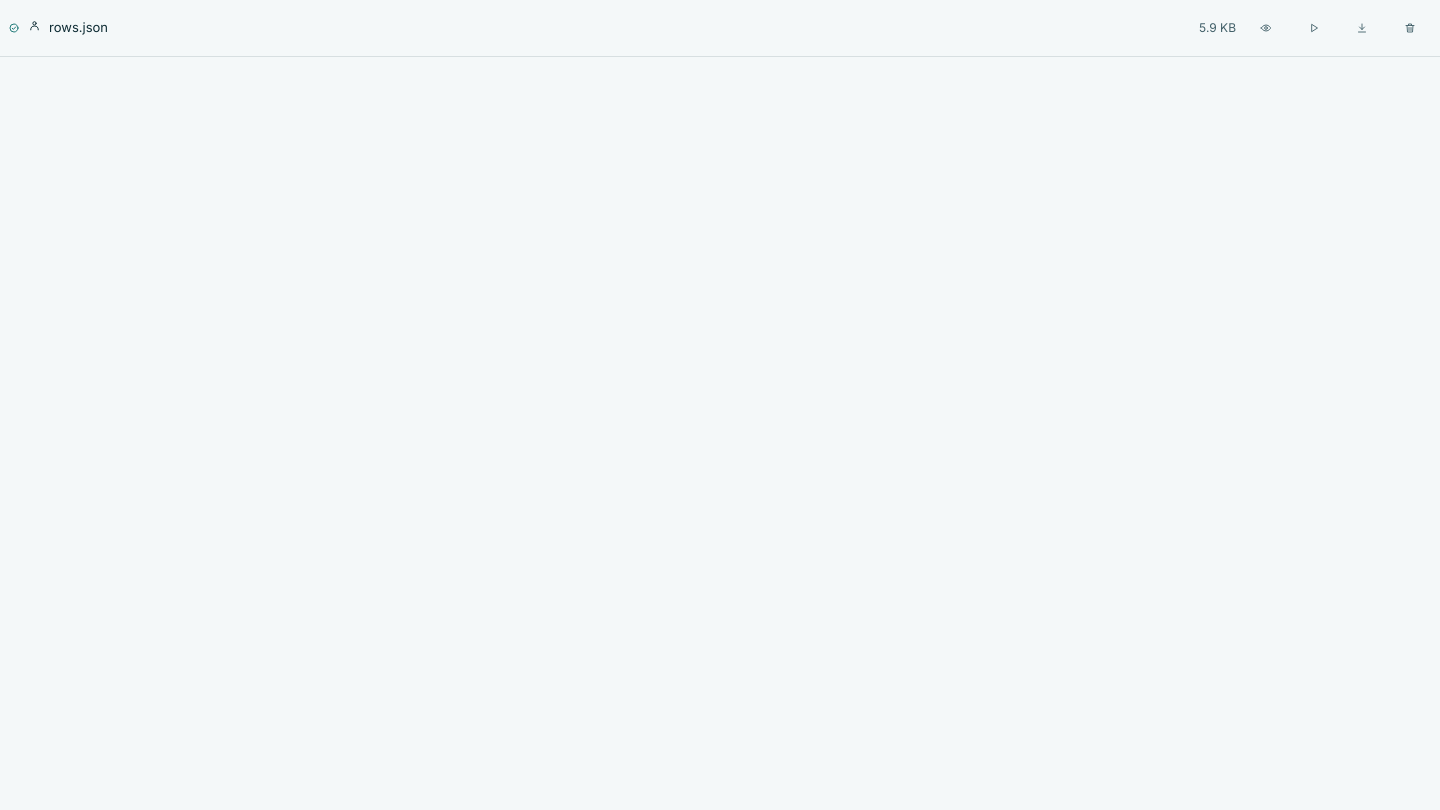
it: BlobRow structural self-disclosure (T-3) › shows row count and keys for a JSON array of records
The image size is (1440, 810).
Click the button named "preview rows.json" at (1266, 28), box 1244,6 -> 1288,50
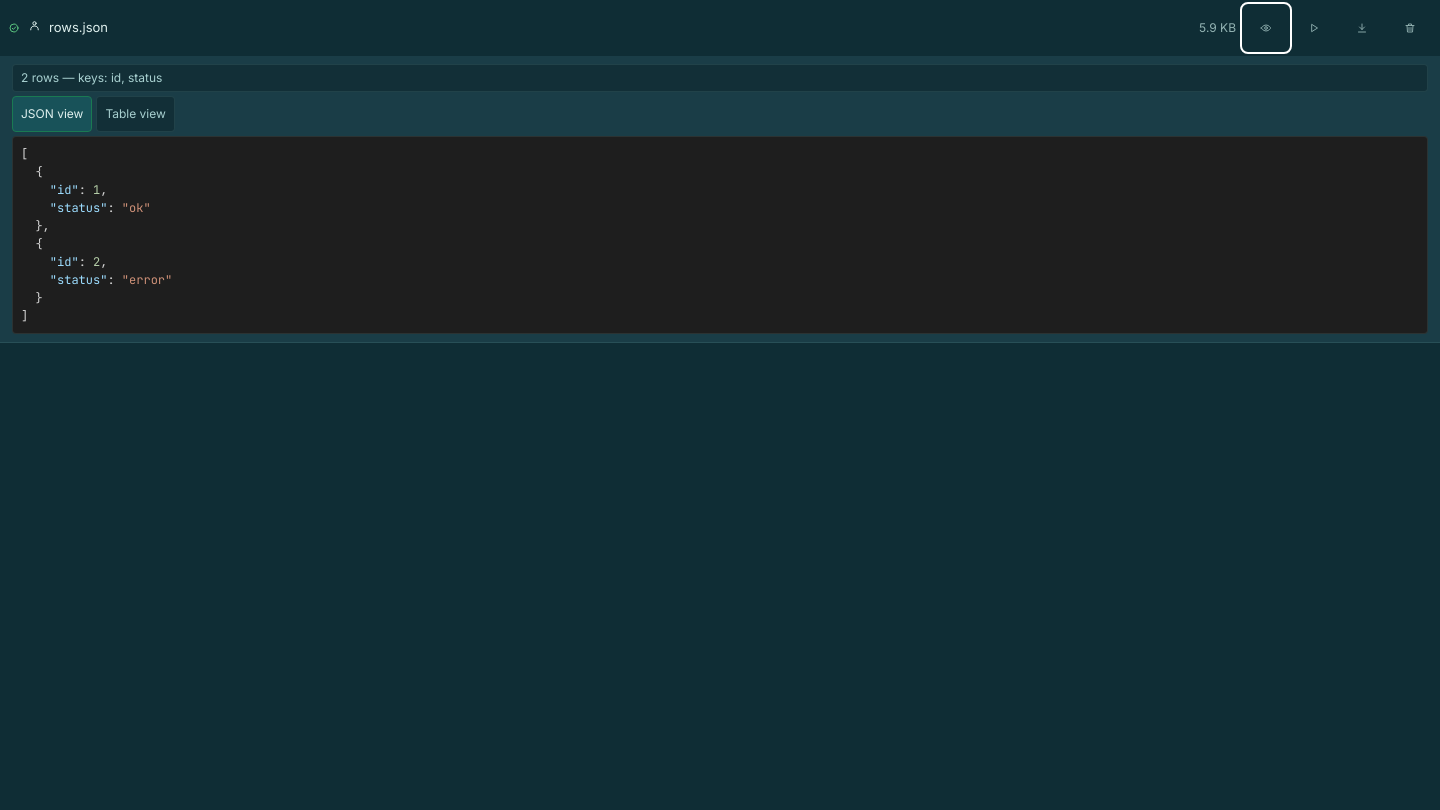
Expected: the element with test id "blob-row-structure" shows "2 rows", 21,70 -> 162,85
Expected: the element with test id "blob-row-structure" shows "keys: id, status", 21,70 -> 162,85
